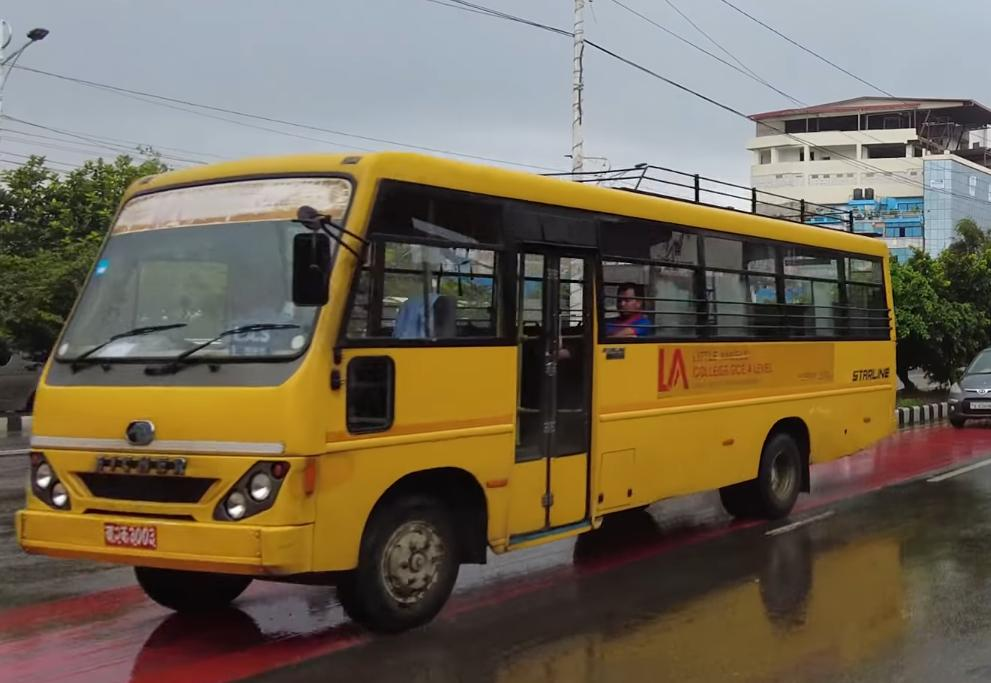car: (946, 335, 991, 426)
school_bus: (10, 147, 910, 632)
